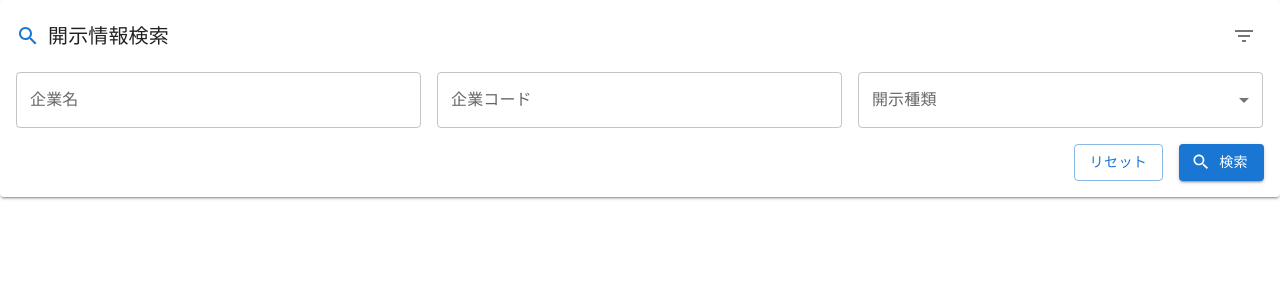
SearchFilter › 詳細フィルターを展開・折りたたみできる
Expected: the field labelled "企業名" is shown, [16,72,421,128]
Expected: the field labelled "開示日（開始）" is not shown
フィルターアイコンをクリックして展開
What coordinates should you click on to do the following:
click the button named "フィルター表示切替"
I would click on:
 (1244, 36)
Its box is [1224,16,1264,56].
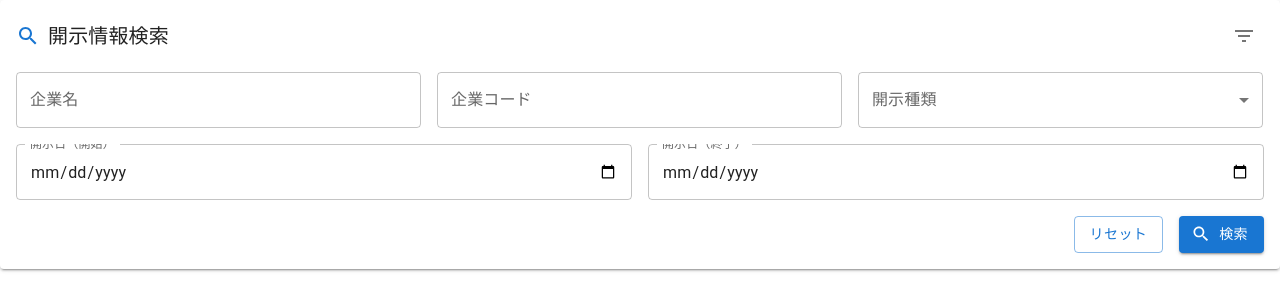
Expected: the date field labelled "開示日（開始）" is shown, [16,144,632,200]
Expected: the date field labelled "開示日（終了）" is shown, [648,144,1264,200]
